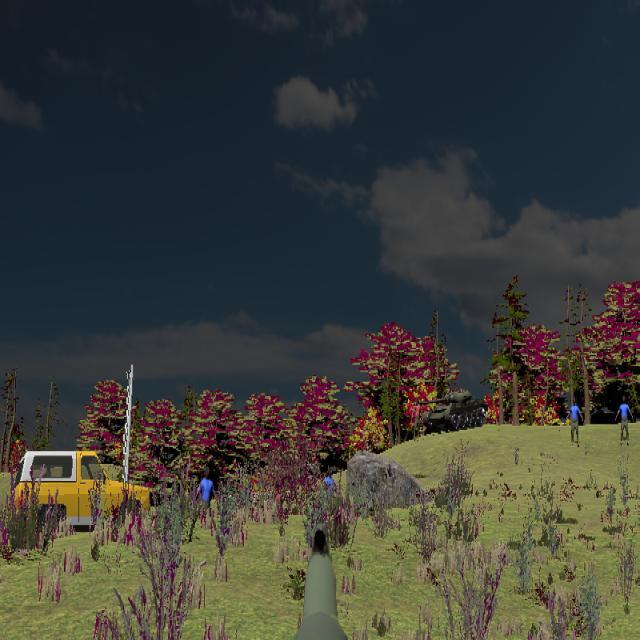Human: (196, 467, 216, 533), (615, 395, 635, 446), (565, 397, 584, 447)
Tank: (408, 388, 487, 434)
car: (12, 450, 151, 534)
